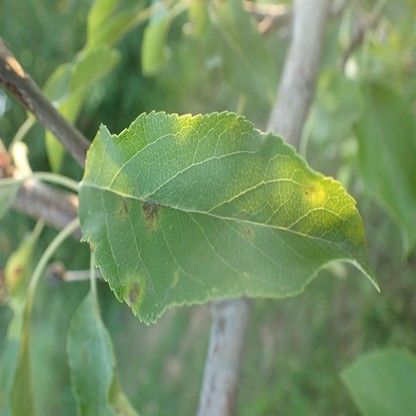scab: (124, 272, 145, 310), (140, 199, 161, 235), (302, 178, 324, 203), (113, 197, 131, 222), (347, 222, 365, 245), (240, 226, 254, 242), (86, 237, 97, 254)
